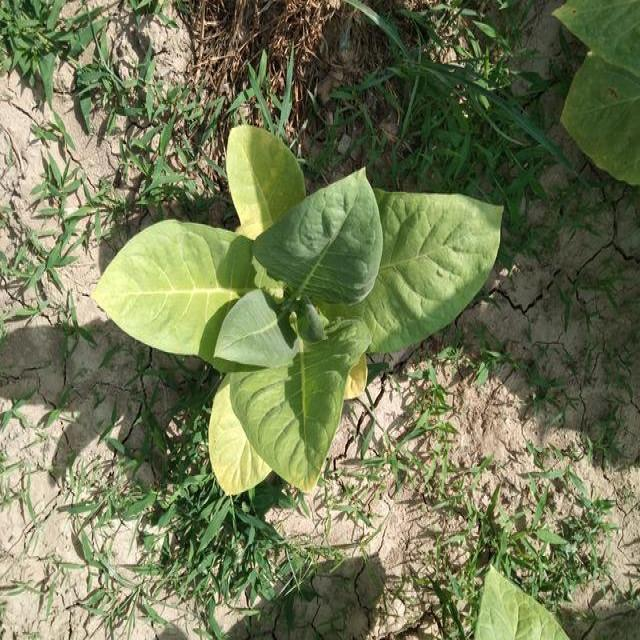crop: (89, 120, 504, 508)
